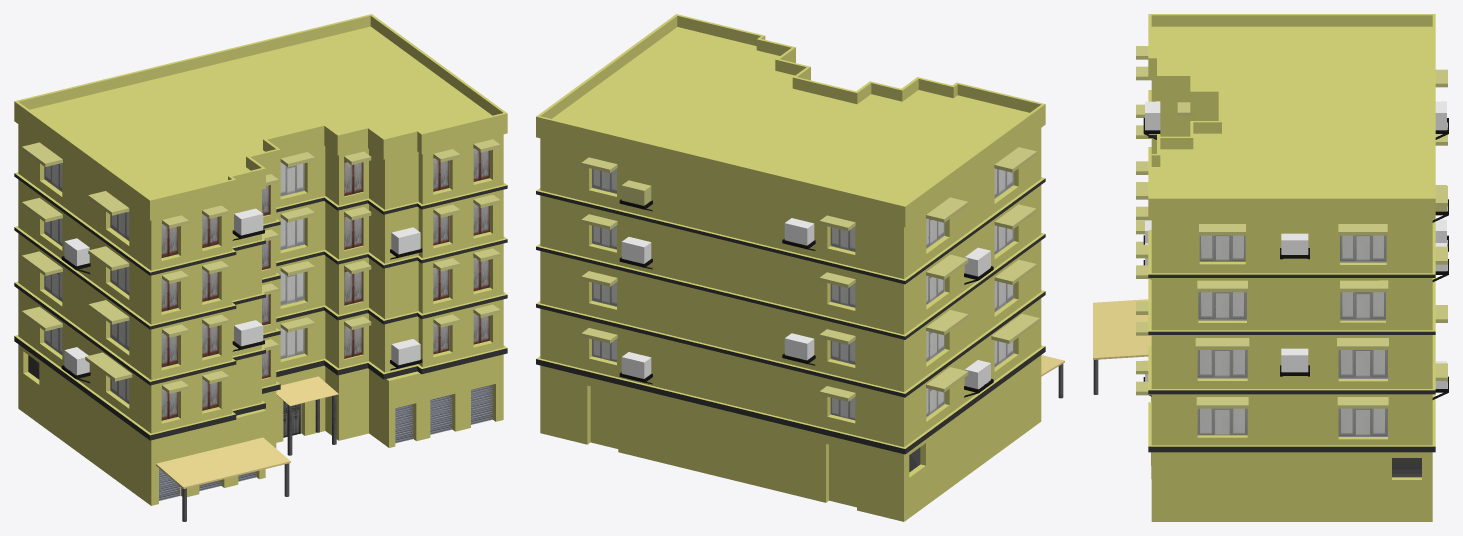
3 views of the same model, side by side, from view 1: azimuth 30°, elevation 25°; view 2: azimuth 150°, elevation 25°; view 3: azimuth 270°, elevation 25° (orthographic). The views are drawn at different scales.
Visible parts, largest first — view 1: polySurface290, polySurface276, pCube74, polySurface50, polySurface277, polySurface305, polySurface47, polySurface75; view 2: polySurface290, pCube74, polySurface276, polySurface277, polySurface75; view 3: polySurface290, polySurface276, pCube74, polySurface50, polySurface277, polySurface75, polySurface143.
Part boxes in pixels (x1,y1,x2,y2): polySurface290: [14, 14, 507, 505]; polySurface276: [44, 148, 489, 420]; pCube74: [22, 139, 500, 393]; polySurface50: [156, 376, 338, 488]; polySurface277: [64, 208, 420, 375]; polySurface305: [395, 384, 492, 443]; polySurface47: [182, 395, 336, 521]; polySurface75: [61, 229, 422, 383]; polySurface290: [536, 14, 1045, 521]; pCube74: [581, 147, 1039, 401]; polySurface276: [592, 168, 1014, 420]; polySurface277: [621, 218, 990, 388]; polySurface75: [619, 199, 993, 397]; polySurface290: [1148, 14, 1435, 521]; polySurface276: [1197, 235, 1387, 436]; pCube74: [1136, 46, 1447, 408]; polySurface50: [1093, 299, 1151, 359]; polySurface277: [1145, 101, 1446, 388]; polySurface75: [1143, 118, 1448, 399]; polySurface143: [1392, 458, 1421, 477].
Size of the model in its own units: 0.1481 by 0.1125 by 0.1117.
Materials: 12 (7 with a texture image).
